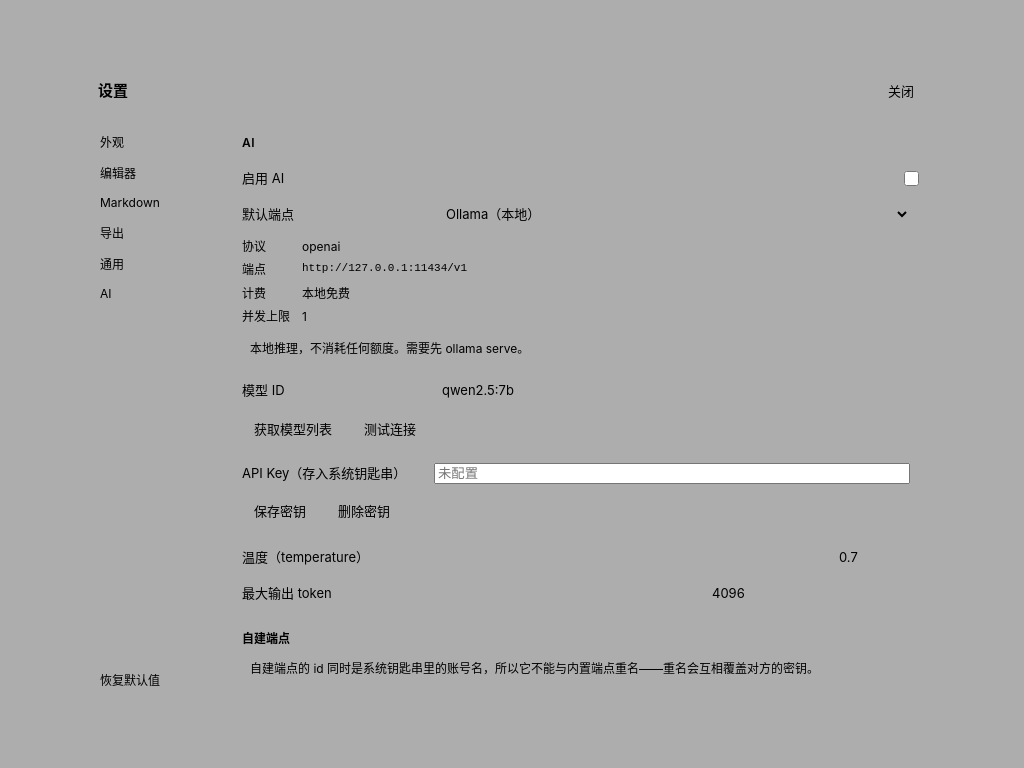
Test case: 界面层：点得动、选得出、存得下 › 换端点后不会把上一个端点的模型摆出来
Click the button "获取模型列表": (293, 428) 242,414 -> 344,443
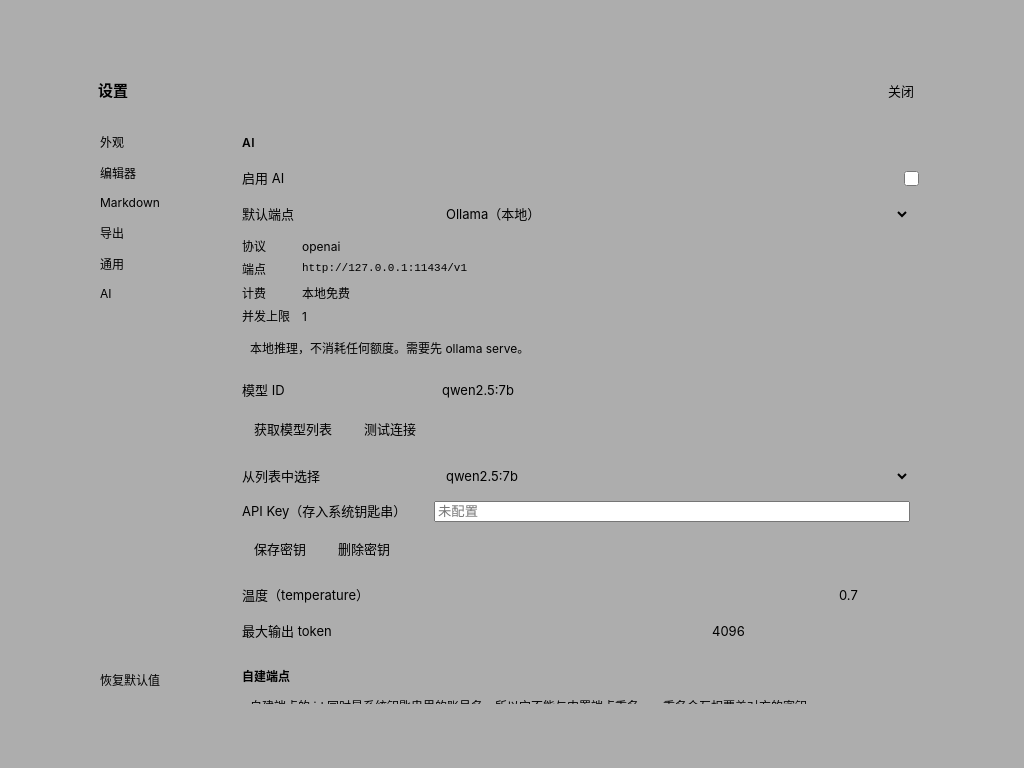
Expected: the dropdown labelled "从列表中选择" is shown, 434,463 -> 910,489
Select "LM Studio（本地）" in the dropdown labelled "默认端点": (672, 214) 434,201 -> 910,227
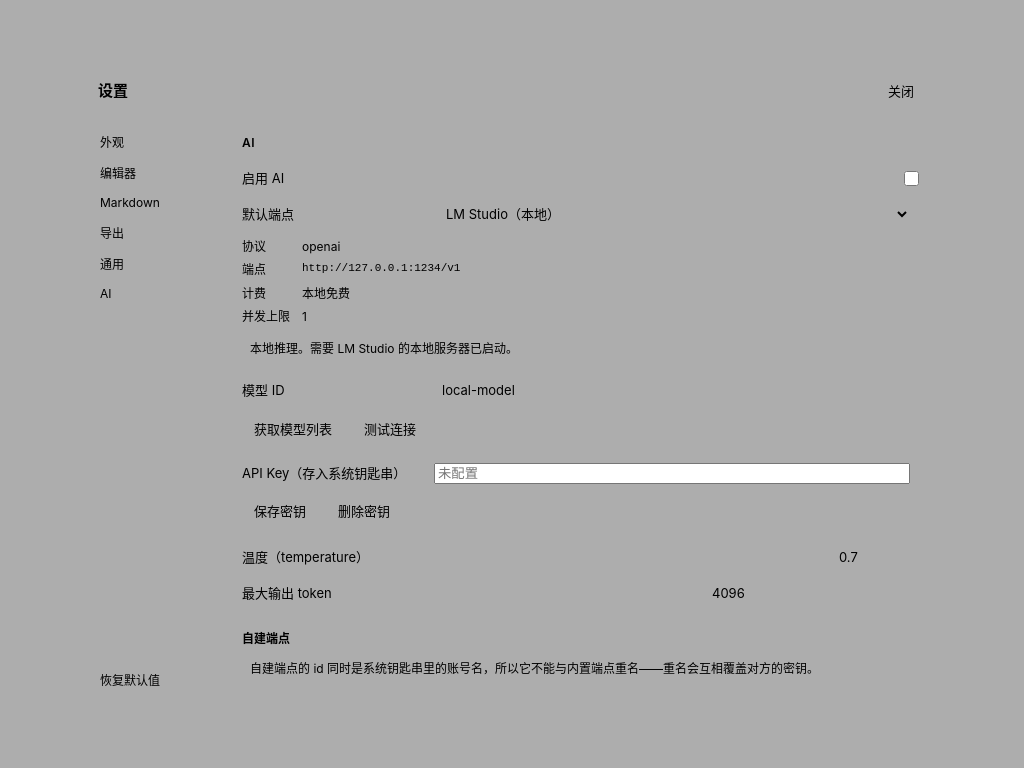
Expected: the text labelled "从列表中选择" is gone
